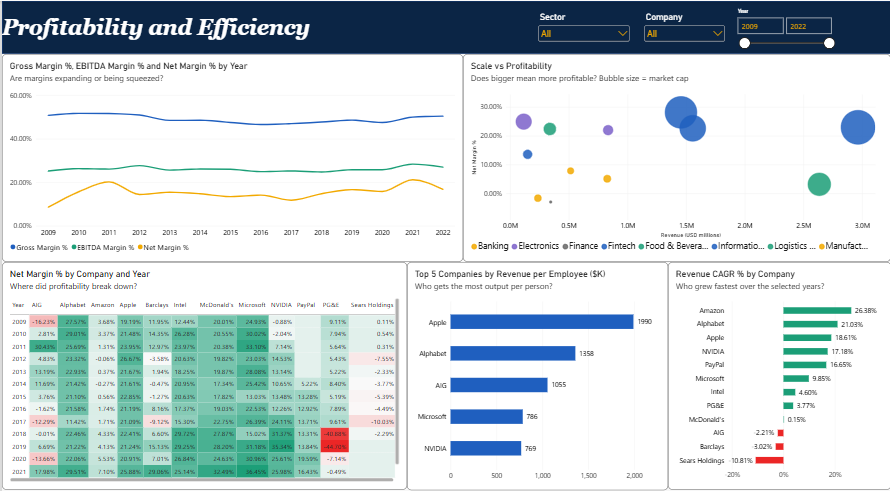

What the dashboard file says about the page in this screenshot:
{"tool":"powerbi","page":{"name":"Profitability and Efficiency","canvas":[1920,1080],"ordinal":1},"visuals":[{"type":"shape","box":[0,0,1920.2,114.5],"z":0},{"type":"lineChart","fields":{"Category":["DimYear.Year"],"Y":["FactFinancials.Gross Margin %","FactFinancials.EBITDA Margin %","FactFinancials.Net Margin %"]},"box":[0,114.5,995.8,449.3],"z":1000},{"type":"clusteredBarChart","title":"Top 5 Companies by Revenue per Employee ($K)","fields":{"Category":["DimCompany.Company"],"Y":["FactFinancials.Revenue per Employee ($K)"]},"box":[875.3,564.1,564.1,493.3],"z":2000},{"type":"scatterChart","title":"Scale vs Profitability","fields":{"Category":["DimCompany.Company"],"Series":["DimCompany.Sector"],"Size":["FactFinancials.Market Cap (B USD)"],"X":["FactFinancials.Revenue_"],"Y":["FactFinancials.Net Margin %"]},"box":[995.8,114.5,924.5,449.3],"z":3000},{"type":"clusteredBarChart","title":"Revenue CAGR % by Company","fields":{"Category":["DimCompany.Company"],"Y":["FactFinancials.Revenue CAGR %"]},"box":[1438.6,563.8,481.7,492.5],"z":4000},{"type":"pivotTable","title":"Net Margin % by Company and Year","fields":{"Columns":["DimCompany.Company"],"Rows":["DimYear.Year"],"Values":["FactFinancials.Net Margin %"]},"box":[0,563.8,874.8,492.5],"z":5000},{"type":"slicer","fields":{"Values":["DimYear.Year"]},"box":[1581.1,13,222.5,90.7],"z":6000},{"type":"slicer","fields":{"Values":["DimCompany.Sector"]},"box":[1153.4,23.8,207.4,69.1],"z":7000},{"type":"slicer","fields":{"Values":["DimCompany.Company"]},"box":[1382.4,23.8,183.6,69.1],"z":8000}]}

Visuals, with their boxes in screenshot pixels (x1, y1, x2, y2), scaled from the page's 1920x1080 canvas onto the 890x491 screenshot:
shape: Rect(0, 0, 889, 52)
lineChart - DimYear.Year x FactFinancials.Gross Margin %: Rect(0, 52, 462, 256)
"Top 5 Companies by Revenue per Employee ($K)" clusteredBarChart: Rect(406, 256, 667, 481)
"Scale vs Profitability" scatterChart: Rect(462, 52, 889, 256)
"Revenue CAGR % by Company" clusteredBarChart: Rect(667, 256, 889, 480)
"Net Margin % by Company and Year" pivotTable: Rect(0, 256, 406, 480)
slicer - DimYear.Year: Rect(733, 6, 836, 47)
slicer - DimCompany.Sector: Rect(535, 11, 631, 42)
slicer - DimCompany.Company: Rect(641, 11, 726, 42)
